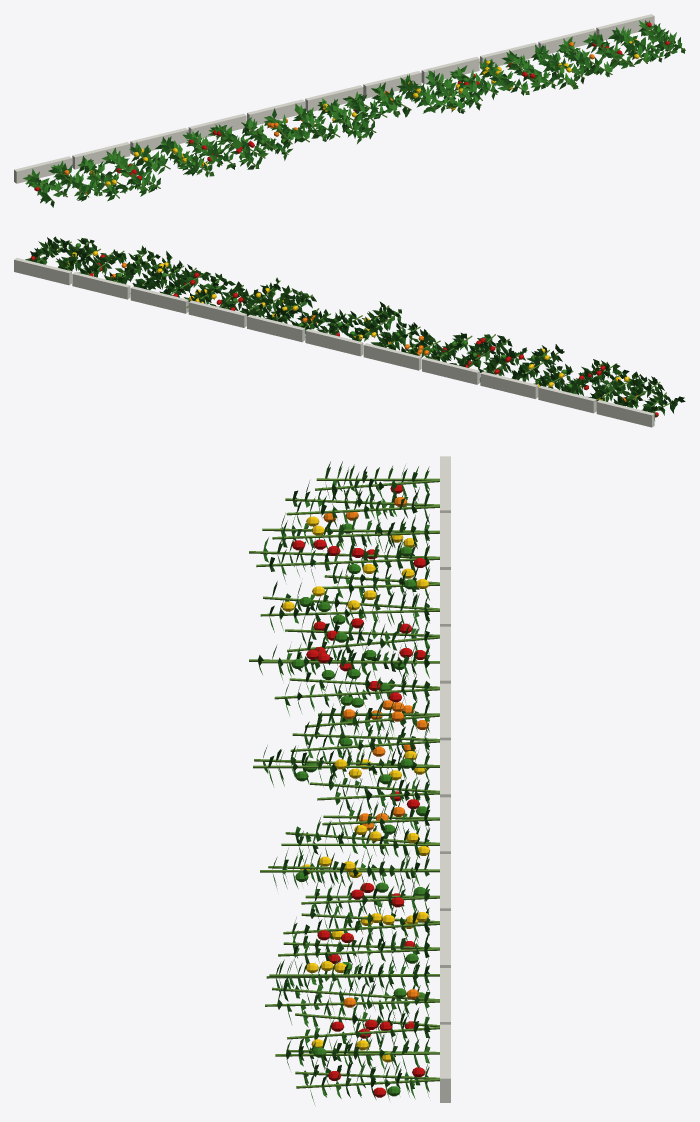
The model's file is row9.obj.
3 renders of one model, top to bottom at view 1: azimuth 30°, elevation 25°; view 2: azimuth 150°, elevation 25°; view 3: azimuth 270°, elevation 25°, orthographic. The views are drawn at different scales.
Visible parts, largest first — view 1: row9; view 2: row9; view 3: row9.
Part boxes in pixels (x1,y1,x2,y2): row9: (14,14,685,207); row9: (14,236,685,427); row9: (249,456,450,1104).
Bounding box in the file's own units: 11.03 × 0.4284 × 1.5.
